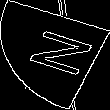N_E: (15, 27, 96, 83)
